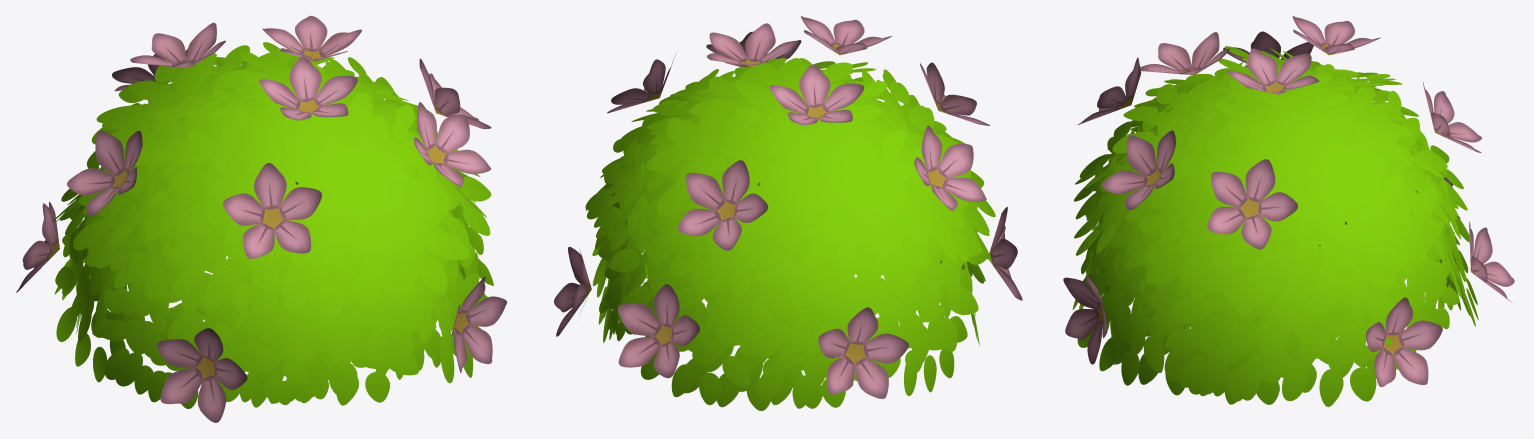
Rendered from Bush_Flowers.glb.
The picture shows the model from 3 angles, left to right: view 1: azimuth 30°, elevation 25°; view 2: azimuth 150°, elevation 25°; view 3: azimuth 270°, elevation 25°; orthographic projection. The views are drawn at different scales.
Parts seen in each view (by area): view 1: Bush_Flowers; view 2: Bush_Flowers; view 3: Bush_Flowers.
Boxes of the visible parts, x1,y1,x2,y2 form: Bush_Flowers: (16,15,506,422); Bush_Flowers: (554,16,1022,410); Bush_Flowers: (1063,16,1514,406).
Bounding box in the file's own units: 1.09 × 0.7586 × 1.11.
2 materials, 2 textured.
